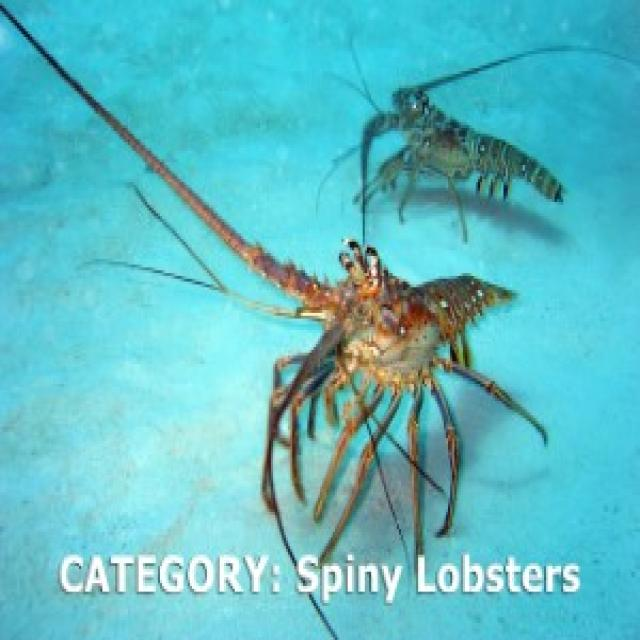lobsters: (41, 0, 602, 566), (322, 43, 625, 248)
